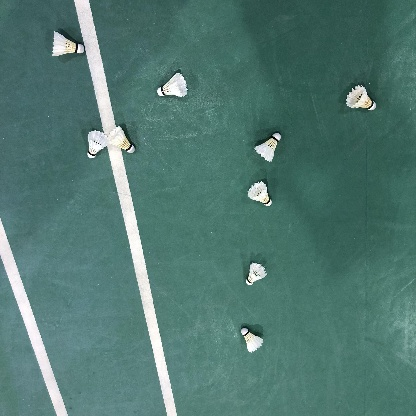ball_single: (52, 31, 84, 56), (106, 126, 135, 153), (254, 133, 281, 162), (346, 85, 376, 111), (157, 73, 188, 97), (247, 181, 272, 206), (87, 130, 109, 158), (241, 328, 263, 352), (246, 263, 267, 285)
